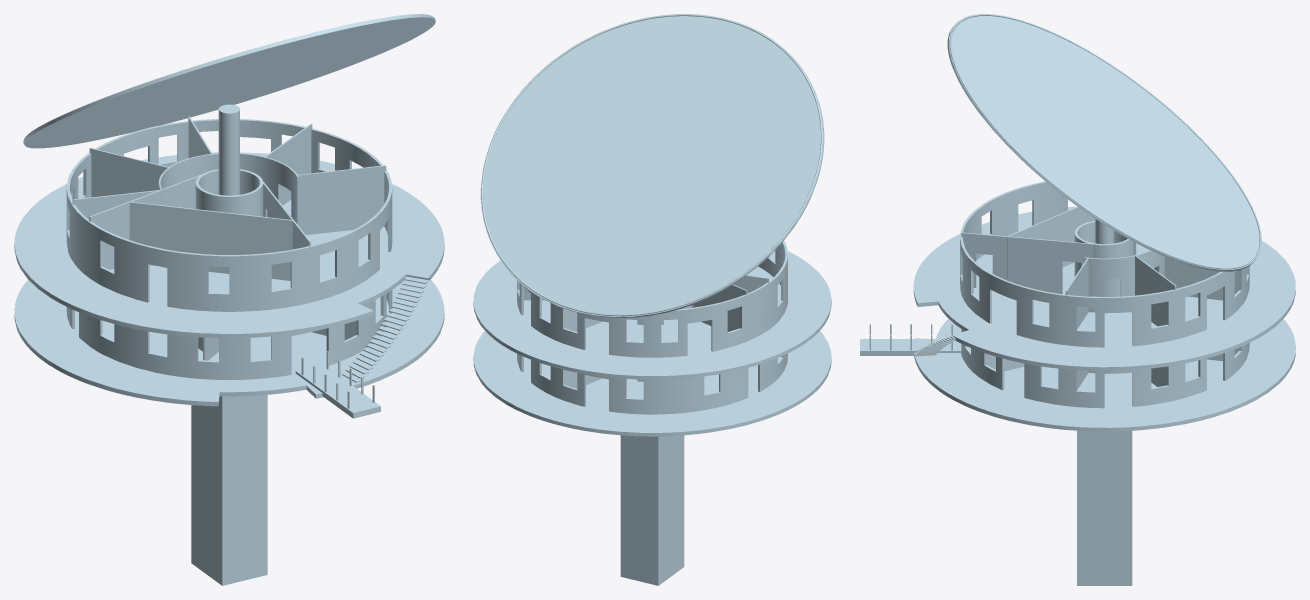
The model's file is tower_lod1.glb.
The picture shows the model from 3 angles, left to right: view 1: azimuth 30°, elevation 25°; view 2: azimuth 150°, elevation 25°; view 3: azimuth 270°, elevation 25°; orthographic projection. The views are drawn at different scales.
Visible parts, largest first — view 1: Facade 1, Slab 1, Slab 0, Solar disc, Pod container, Radial demise wall (×5), Facade 0, Bedroom-bath wall, Corridor wall 1, Core tangent wall, Elevator shell 1, Hatch column (+2 smaller); view 2: Solar disc, Slab 1, Slab 0, Pod container, Facade 1, Facade 0, Solar rim, Radial demise wall; view 3: Solar disc, Slab 1, Slab 0, Facade 1, Pod container, Facade 0, Living-bedroom separator, Radial demise wall (×3), Corridor wall 1, Solar rim, Elevator shell 1, Bedroom-bath wall (+1 smaller).
Part boxes in pixels (x1,y1,x2,y2): Facade 1: (66, 119, 392, 311); Slab 1: (14, 152, 444, 338); Slab 0: (14, 277, 444, 406); Solar disc: (23, 14, 435, 148); Pod container: (191, 395, 267, 585); Radial demise wall (×5): (72, 116, 386, 234); Facade 0: (66, 290, 392, 379); Bedroom-bath wall: (129, 201, 293, 280); Corridor wall 1: (158, 153, 298, 225); Core tangent wall: (89, 174, 201, 269); Elevator shell 1: (195, 169, 263, 216); Hatch column: (218, 104, 239, 195); Solar disc: (480, 14, 824, 317); Slab 1: (473, 250, 831, 379); Slab 0: (473, 331, 831, 436); Pod container: (620, 435, 684, 585); Facade 1: (517, 241, 787, 357); Facade 0: (517, 353, 787, 414); Solar rim: (481, 14, 822, 316); Radial demise wall: (693, 284, 747, 331); Solar disc: (947, 14, 1261, 271); Slab 1: (913, 206, 1295, 370); Slab 0: (914, 318, 1295, 431); Facade 1: (960, 181, 1249, 347); Pod container: (1077, 430, 1132, 585); Facade 0: (961, 329, 1249, 408); Living-bedroom separator: (992, 235, 1062, 294); Radial demise wall (×3): (1065, 255, 1239, 329); Corridor wall 1: (1084, 242, 1164, 312); Solar rim: (949, 14, 1261, 269); Elevator shell 1: (1074, 220, 1134, 296); Bedroom-bath wall: (1007, 206, 1095, 280).
Size of the model in its own units: 20 by 30.8 by 22.8.
